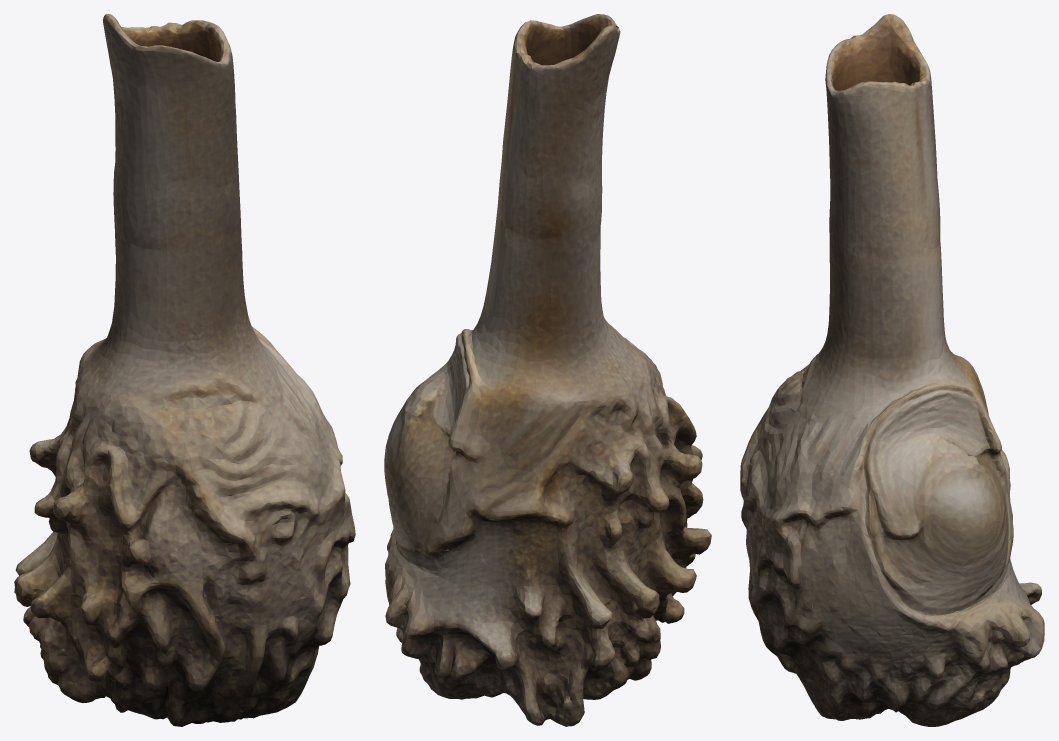
3 views of the same model, side by side, from view 1: azimuth 30°, elevation 25°; view 2: azimuth 150°, elevation 25°; view 3: azimuth 270°, elevation 25° (orthographic). The views are drawn at different scales.
Visible parts, largest first — view 1: world; view 2: world; view 3: world.
Part boxes in pixels (<box>): world: <box>14,14,355,726</box>; world: <box>384,14,711,726</box>; world: <box>740,14,1044,726</box>.
Size of the model in its own units: 0.069 by 0.16 by 0.0675.
1 material, 1 textured.
